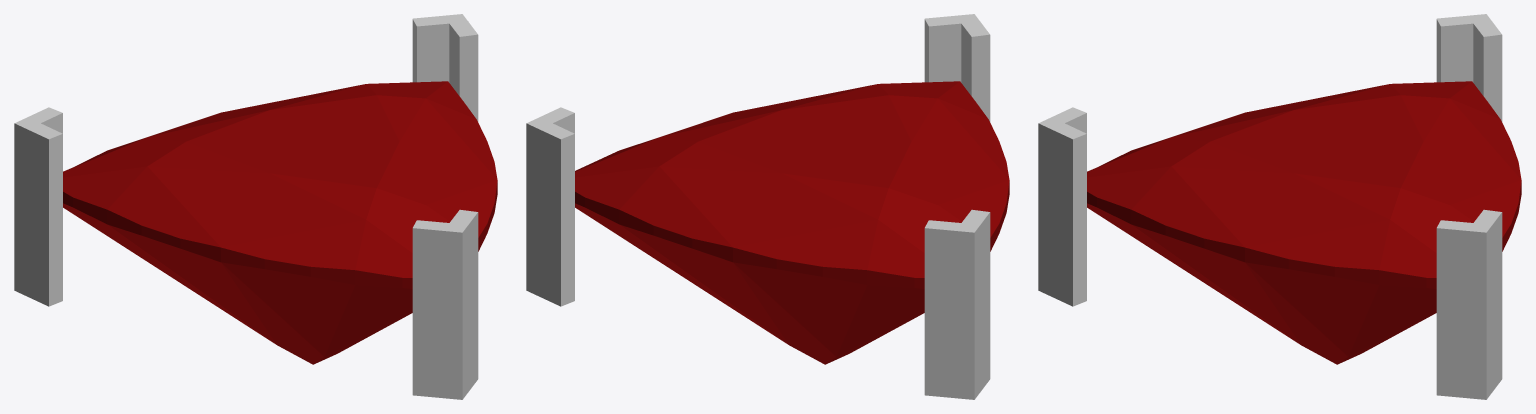
Rendered from garnet_prongs.fbx.
3 views of the same model, side by side, from view 1: azimuth 30°, elevation 25°; view 2: azimuth 150°, elevation 25°; view 3: azimuth 270°, elevation 25° (orthographic).
Visible parts, largest first — view 1: Trillion, Trillion Prongs; view 2: Trillion, Trillion Prongs; view 3: Trillion, Trillion Prongs.
Part boxes in pixels (box(x1,y1,x2,y2)): Trillion: box(63, 81, 497, 364); Trillion Prongs: box(14, 14, 478, 399); Trillion: box(575, 81, 1009, 364); Trillion Prongs: box(526, 14, 990, 399); Trillion: box(1087, 81, 1521, 364); Trillion Prongs: box(1038, 14, 1502, 399).
Bounding box in the file's own units: 342 × 176 × 319.
